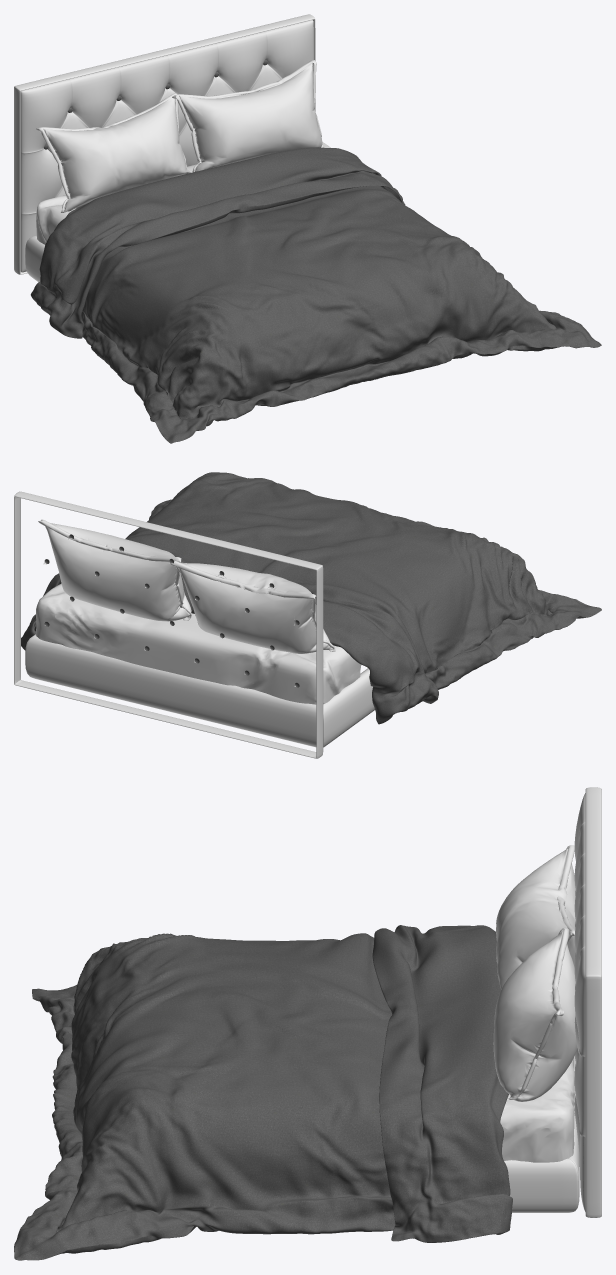
File: modern_double_bed.glb
3 views of the same model, one above another, from view 1: azimuth 30°, elevation 25°; view 2: azimuth 150°, elevation 25°; view 3: azimuth 270°, elevation 25° (orthographic). The views are drawn at different scales.
Parts seen in each view (by area): view 1: Cube.003, Cube.001, Cube.004, Plane.004; view 2: Cube.003, Cube.001, Cube.004, Plane.004, Icosphere.003; view 3: Cube.003, Cube.004, Cube.001, Plane.004.
Boxes of the visible parts, bbox=[...] form: Cube.003: bbox=[30, 147, 601, 443]; Cube.001: bbox=[14, 14, 315, 282]; Cube.004: bbox=[36, 60, 322, 212]; Plane.004: bbox=[36, 142, 330, 244]; Cube.003: bbox=[21, 472, 601, 724]; Cube.001: bbox=[14, 491, 374, 758]; Cube.004: bbox=[38, 519, 335, 653]; Plane.004: bbox=[36, 583, 361, 704]; Icosphere.003: bbox=[44, 534, 299, 687]; Cube.003: bbox=[14, 925, 512, 1260]; Cube.004: bbox=[493, 845, 577, 1101]; Cube.001: bbox=[504, 787, 601, 1217]; Plane.004: bbox=[500, 1057, 574, 1162].
Bounding box in the file's own units: 2.91 × 1.22 × 2.67.
5 materials, 3 textured.
